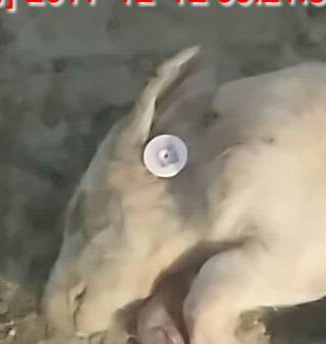text: (132, 112, 203, 187)
